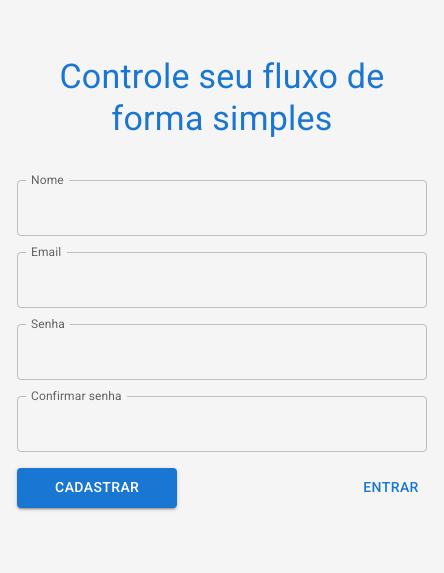
Test case: Register › should render require password with 3 caracters
Type "ad" into the password field labelled "Senha" at (222, 352), box [17,324,427,380]
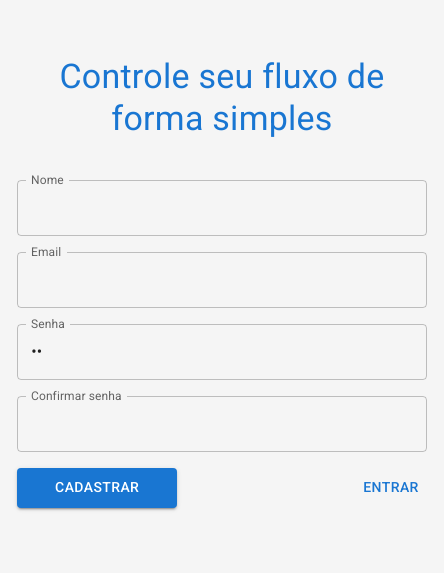
Click the button "Cadastrar" at (97, 488), box [17,468,177,508]
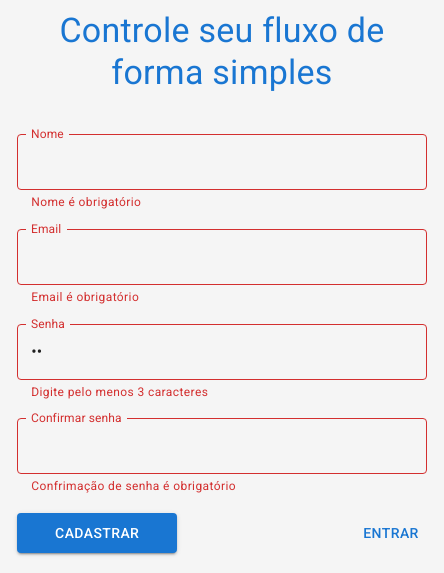
Expected: the text "Digite pelo menos 3 caracteres" is shown, [31,385,208,399]
